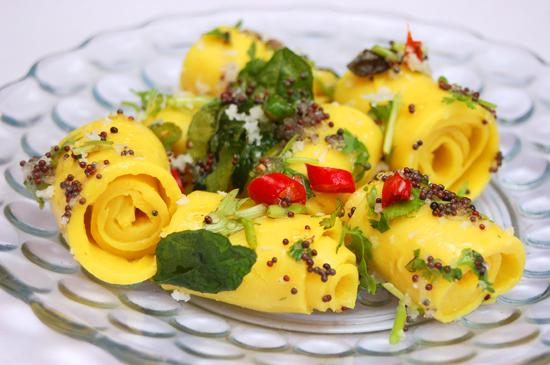khandvi: (53, 38, 531, 308)
